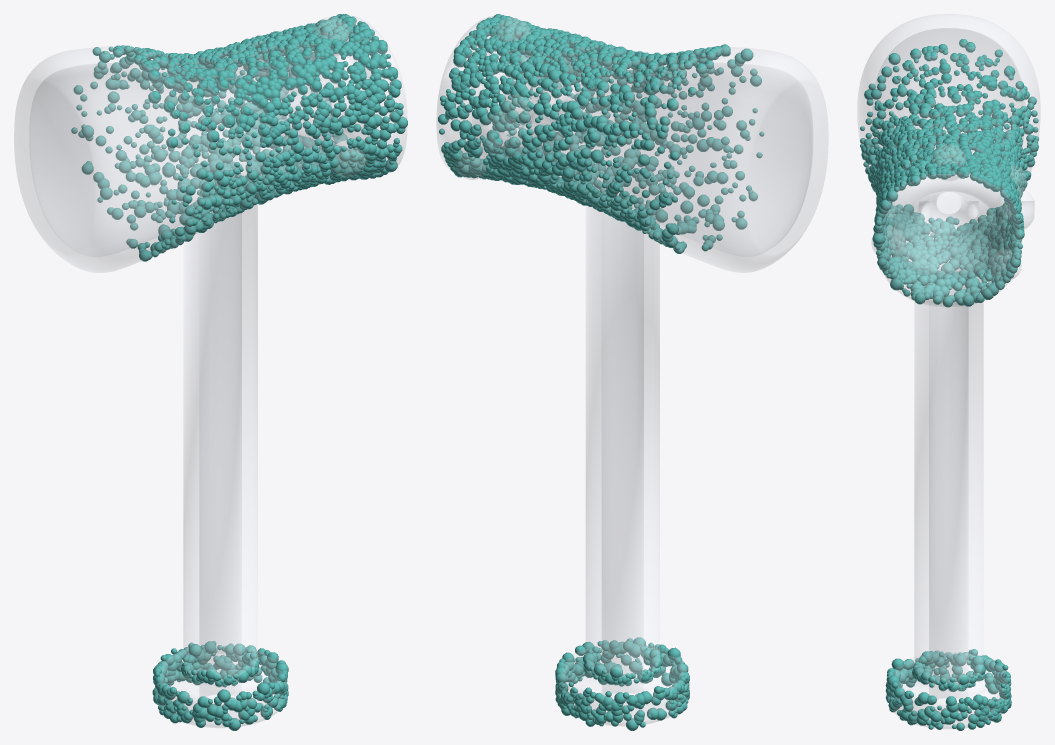
Rendered from hammer_flat_clear_silver.glb.
3 views of the same model, side by side, from view 1: azimuth 30°, elevation 25°; view 2: azimuth 150°, elevation 25°; view 3: azimuth 270°, elevation 25° (orthographic). The views are drawn at different scales.
Parts seen in each view (by area): view 1: body, frit, marbles; view 2: body, frit, marbles; view 3: body, frit, marbles.
Boxes of the visible parts, x1,y1,x2,y2 form: body: (14,16,407,727); frit: (71,14,407,730); marbles: (257,17,365,176); body: (436,16,828,726); frit: (438,14,764,730); marbles: (455,17,533,179); body: (857,14,1040,728); frit: (860,39,1038,730); marbles: (871,144,1026,279).
Bounding box in the file's own units: 0.0682 × 0.1405 × 0.0371.
